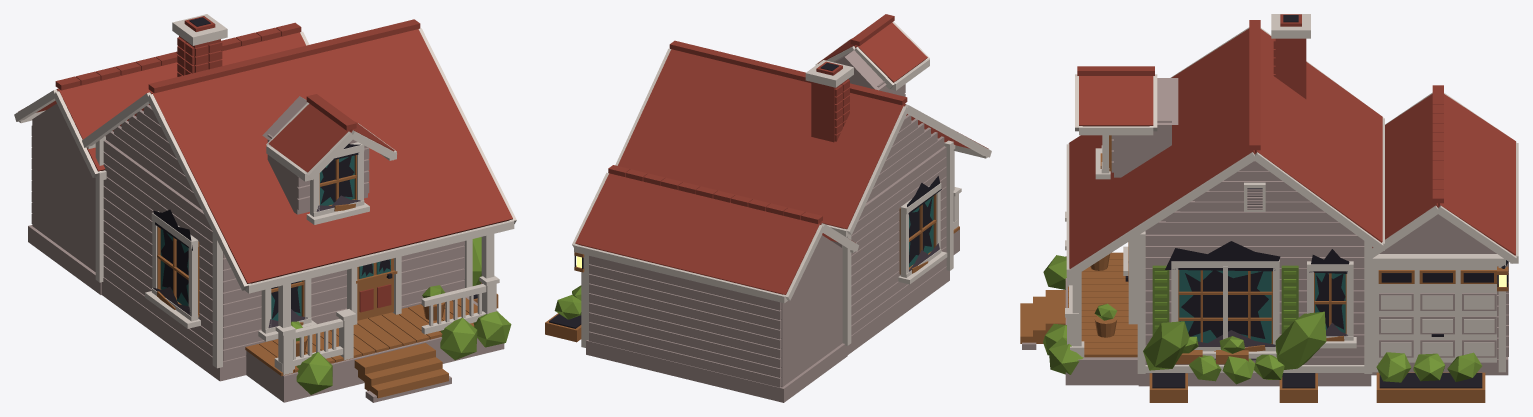
3 views of the same model, side by side, from view 1: azimuth 30°, elevation 25°; view 2: azimuth 150°, elevation 25°; view 3: azimuth 270°, elevation 25° (orthographic). The views are drawn at different scales.
Parts seen in each view (by area): view 1: roof_pal_picketWhite, body_pal_picketWhite, dormer_roof_pal_picketWhite, door_entry_pal_picketWhite; view 2: roof_pal_picketWhite, body_pal_picketWhite, dormer_roof_pal_picketWhite; view 3: body_pal_picketWhite, roof_pal_picketWhite, door_garage_pal_picketWhite, dormer_roof_pal_picketWhite.
Part boxes in pixels (<box>): roof_pal_picketWhite: <box>14,14,516,293</box>; body_pal_picketWhite: <box>28,103,511,402</box>; dormer_roof_pal_picketWhite: <box>266,94,396,181</box>; door_entry_pal_picketWhite: <box>356,258,397,320</box>; roof_pal_picketWhite: <box>572,40,991,303</box>; body_pal_picketWhite: <box>545,114,961,402</box>; dormer_roof_pal_picketWhite: <box>815,14,929,90</box>; body_pal_picketWhite: <box>1020,161,1508,402</box>; roof_pal_picketWhite: <box>1066,14,1518,276</box>; door_garage_pal_picketWhite: <box>1378,266,1496,362</box>; dormer_roof_pal_picketWhite: <box>1075,66,1157,135</box>.
Bounding box in the file's own units: 7.43 × 6.8 × 11.04.
